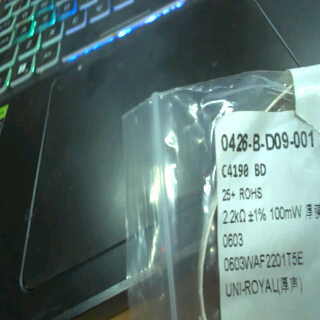2.2kR: (220, 204, 247, 227)
